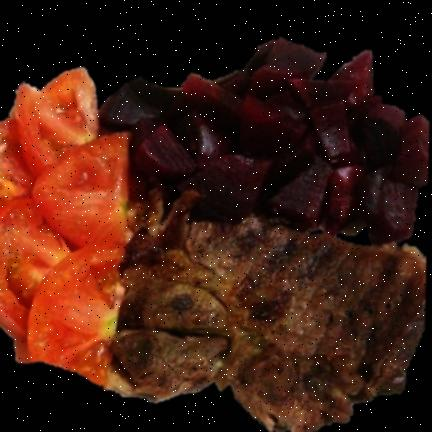beet: (92, 37, 429, 243)
meat: (112, 189, 426, 432)
tomato: (0, 68, 129, 384)
